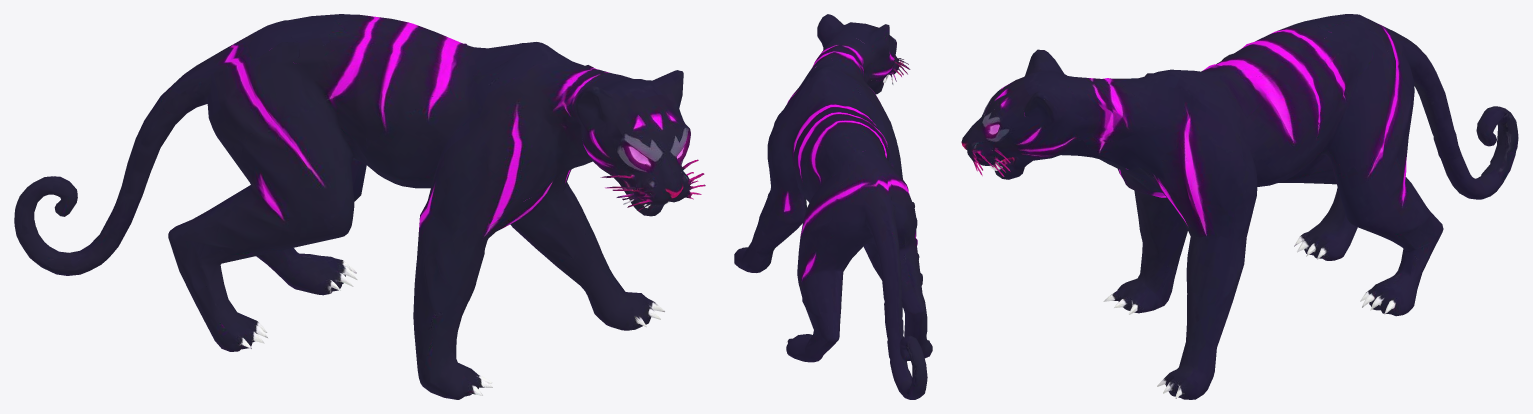
Rendered from monster_panther.glb.
The picture shows the model from 3 angles, left to right: view 1: azimuth 30°, elevation 25°; view 2: azimuth 150°, elevation 25°; view 3: azimuth 270°, elevation 25°; orthographic projection. The views are drawn at different scales.
Parts seen in each view (by area): view 1: Mesh_0; view 2: Mesh_0; view 3: Mesh_0.
Part boxes in pixels (x1,y1,x2,y2): Mesh_0: (14,14,705,399); Mesh_0: (734,14,932,399); Mesh_0: (961,14,1518,399).
Size of the model in its own units: 1.81 by 1.2 by 2.09.
Materials: 1 (1 with a texture image).
